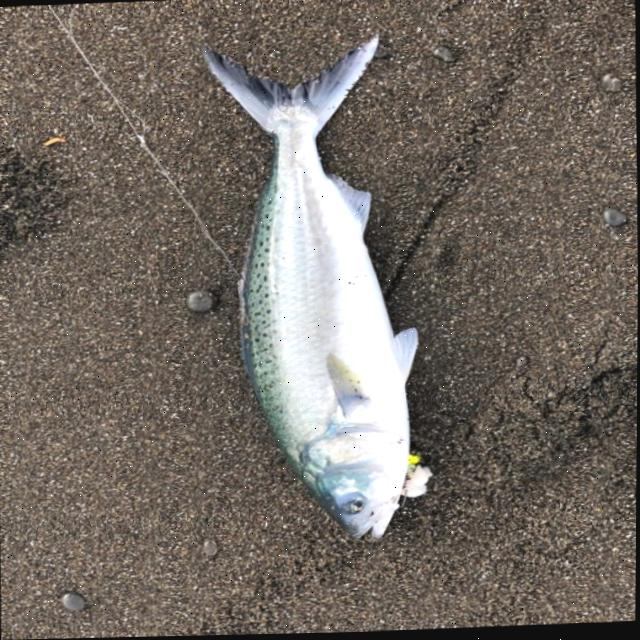Australian Salmon: (184, 23, 472, 555)
